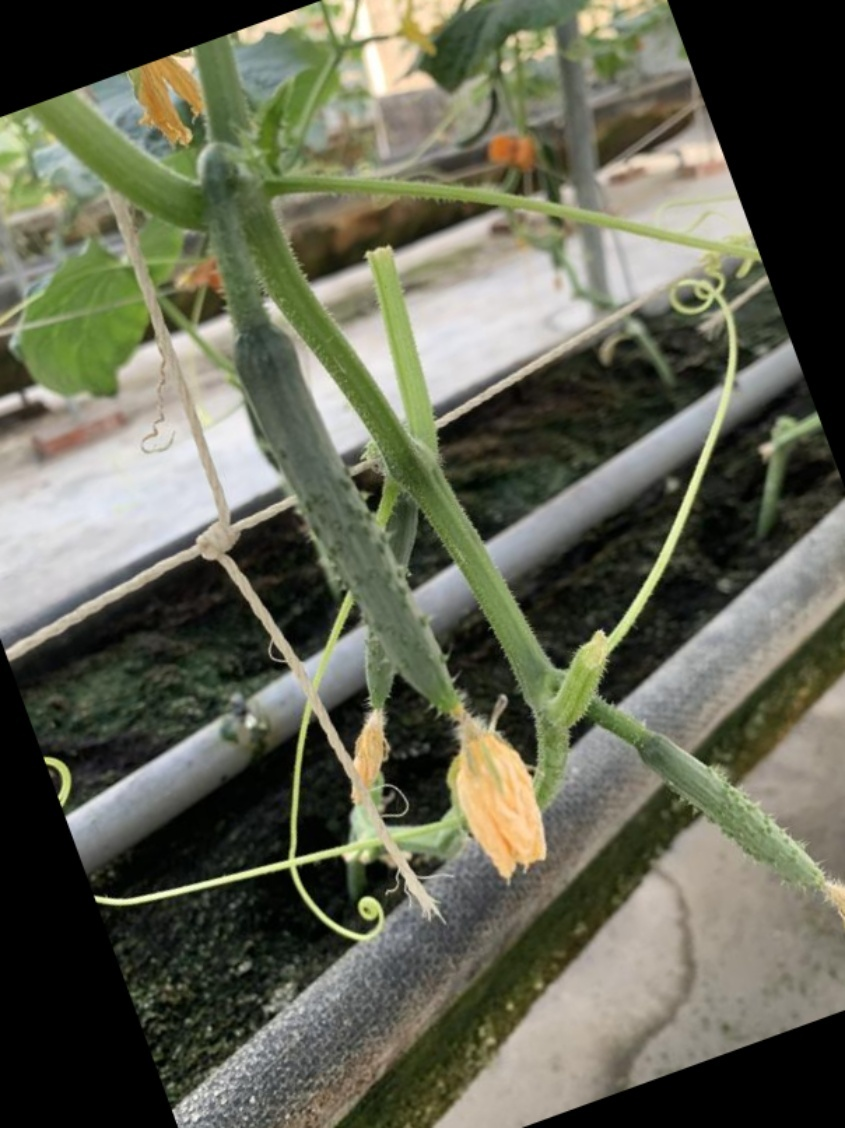flowering: (214, 308, 534, 809)
growth: (221, 319, 509, 844)
